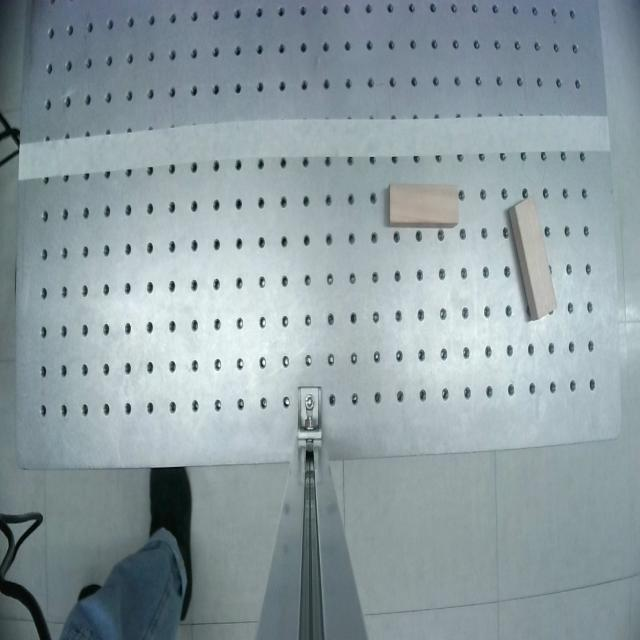wood: (506, 194, 559, 320), (386, 183, 459, 229)
